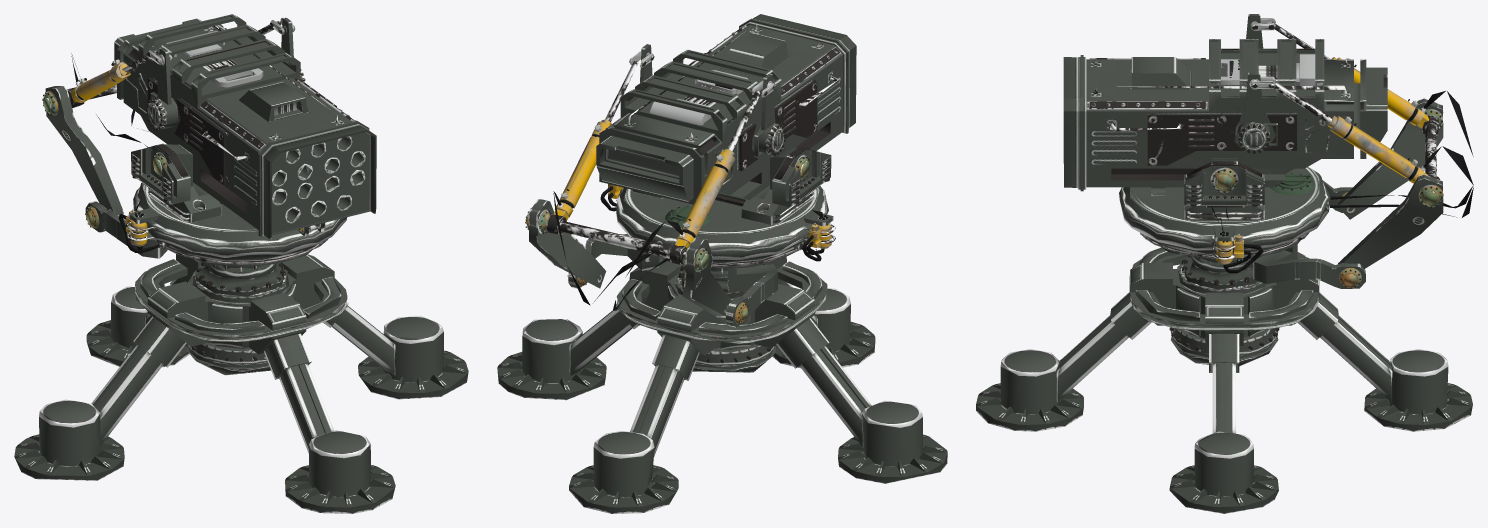
File: mturret.glb
3 renders of one model, left to right at view 1: azimuth 30°, elevation 25°; view 2: azimuth 150°, elevation 25°; view 3: azimuth 270°, elevation 25°, orthographic. The views are drawn at different scales.
Visible parts, largest first — view 1: t_low, t_low.025, t_low.019, t_low.005; view 2: t_low, t_low.025, t_low.019, t_low.005; view 3: t_low, t_low.025, t_low.019, t_low.005.
Part boxes in pixels (x1=…): t_low: x1=43, y1=14, x2=376, y2=266; t_low.025: x1=14, y1=254, x2=468, y2=513; t_low.019: x1=85, y1=188, x2=189, y2=258; t_low.005: x1=42, y1=28, x2=355, y2=233; t_low: x1=525, y1=14, x2=856, y2=317; t_low.025: x1=497, y1=256, x2=947, y2=513; t_low.019: x1=568, y1=184, x2=835, y2=327; t_low.005: x1=525, y1=26, x2=837, y2=323; t_low: x1=1063, y1=14, x2=1443, y2=268; t_low.025: x1=976, y1=247, x2=1472, y2=513; t_low.019: x1=1187, y1=174, x2=1365, y2=288; t_low.005: x1=1092, y1=62, x2=1473, y2=288.
Size of the model in its own units: 6.18 by 5 by 6.19.
Materials: 3 (3 with a texture image).
